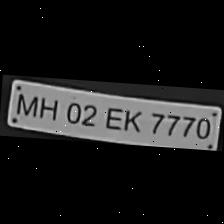0: (62, 97, 84, 124), (192, 111, 213, 138)
2: (77, 99, 99, 126)
7: (145, 107, 168, 135), (160, 108, 180, 135), (176, 110, 194, 136)
E: (100, 103, 123, 130)
H: (34, 91, 59, 120)
K: (120, 104, 144, 132)
M: (15, 89, 36, 117)
